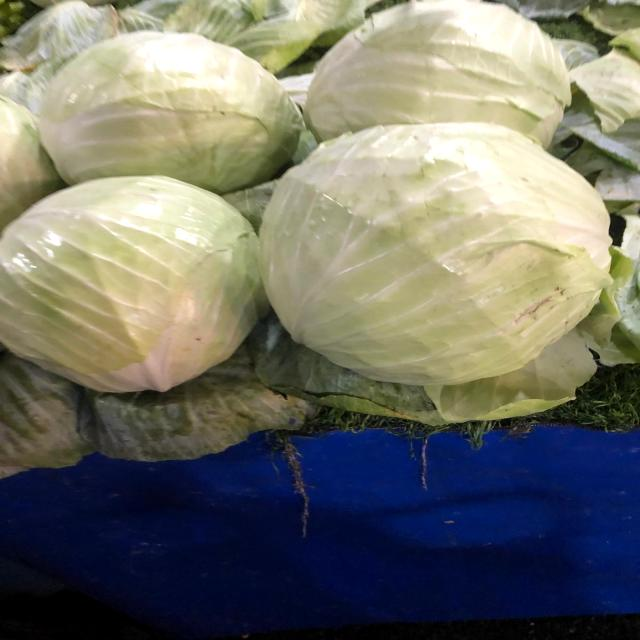cabbage: (249, 116, 619, 394), (0, 170, 271, 402), (22, 22, 330, 188), (290, 0, 586, 150)
